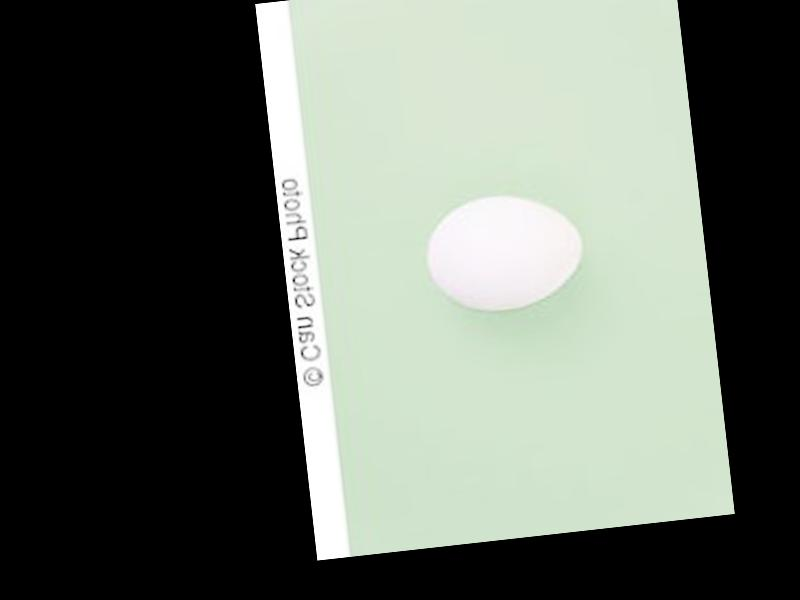Eggs: (422, 189, 587, 317)
